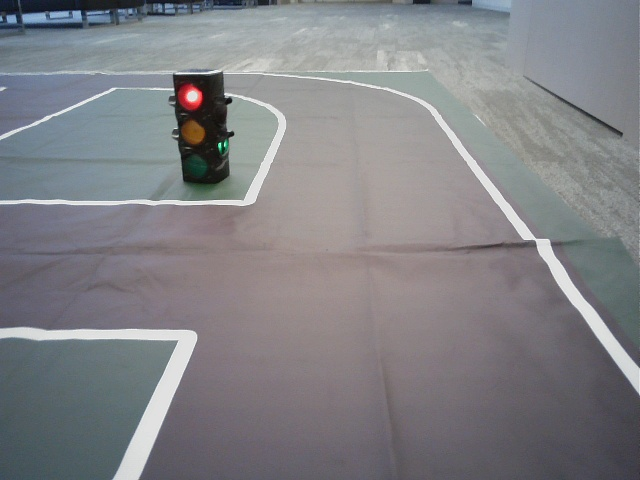red: (176, 77, 210, 178)
